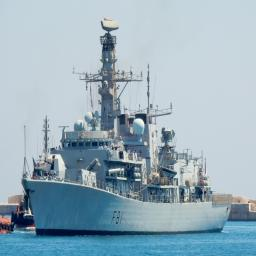Fragata: (20, 16, 233, 241)
